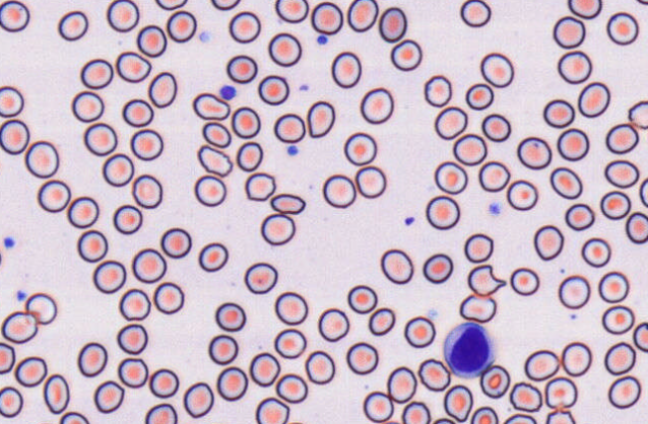LYM: (442, 320, 497, 378)
PLT: (487, 201, 503, 218), (220, 84, 238, 99), (1, 236, 19, 250), (12, 288, 28, 303), (314, 35, 329, 47), (286, 144, 300, 156)
RBC: (24, 140, 59, 178), (131, 248, 166, 283), (1, 310, 38, 343), (360, 87, 393, 124), (322, 173, 356, 208), (480, 52, 514, 87), (380, 248, 413, 284), (577, 81, 610, 117), (92, 259, 126, 293), (607, 375, 641, 409), (425, 195, 459, 229), (274, 291, 308, 325), (557, 50, 592, 83), (386, 366, 417, 403), (183, 381, 214, 418), (83, 122, 117, 155), (434, 105, 467, 139), (268, 32, 301, 66), (517, 136, 551, 169), (343, 132, 377, 165), (606, 11, 639, 45), (216, 366, 248, 401), (524, 349, 559, 381), (452, 133, 487, 165), (197, 144, 232, 176), (558, 274, 590, 309), (260, 213, 295, 245), (115, 51, 151, 82), (443, 384, 473, 421), (331, 51, 361, 88), (37, 179, 70, 212), (544, 376, 577, 409), (417, 358, 450, 391), (310, 1, 343, 34), (434, 161, 467, 194), (552, 15, 585, 48), (556, 128, 589, 161), (549, 166, 582, 199), (102, 152, 134, 186), (317, 307, 349, 341), (604, 341, 636, 375), (561, 341, 592, 376), (77, 341, 107, 377), (533, 224, 563, 260), (148, 71, 177, 108), (43, 373, 69, 414), (244, 262, 277, 294), (106, 0, 139, 32), (354, 165, 386, 198), (346, 341, 378, 374), (390, 38, 422, 71), (130, 128, 163, 160), (71, 90, 104, 122), (304, 350, 335, 384), (479, 364, 510, 398), (249, 352, 280, 386), (131, 174, 162, 208), (605, 123, 639, 154), (0, 118, 29, 154), (378, 6, 407, 42), (67, 196, 99, 228), (478, 160, 510, 192), (346, 0, 378, 32), (228, 11, 260, 43), (194, 174, 226, 206), (136, 24, 167, 57), (14, 356, 47, 387), (93, 380, 124, 413), (77, 229, 108, 262), (509, 381, 542, 412), (153, 281, 184, 314), (404, 315, 435, 348), (80, 58, 113, 89), (604, 159, 639, 188), (362, 390, 393, 422), (119, 288, 150, 320), (506, 179, 538, 210), (257, 74, 289, 105), (598, 271, 629, 303), (601, 304, 634, 334), (117, 357, 148, 388), (116, 323, 147, 354), (57, 10, 88, 41), (160, 227, 191, 258), (275, 373, 307, 403), (166, 10, 196, 42), (274, 328, 306, 358), (273, 113, 305, 143), (255, 396, 289, 424), (422, 253, 453, 283), (148, 368, 179, 398), (0, 0, 29, 32), (231, 106, 260, 138), (214, 302, 246, 331), (423, 74, 451, 107), (463, 233, 493, 263), (112, 204, 142, 234), (208, 334, 238, 364), (581, 237, 611, 267), (198, 242, 228, 272), (122, 98, 153, 127), (600, 190, 631, 219), (543, 98, 574, 127), (244, 172, 275, 201), (226, 54, 257, 83), (347, 284, 377, 313), (460, 0, 491, 27), (510, 267, 539, 295), (481, 113, 510, 141), (564, 203, 594, 230), (236, 141, 263, 171), (465, 82, 493, 110), (202, 121, 231, 148), (270, 192, 305, 214), (0, 85, 24, 117), (0, 385, 23, 418), (275, 0, 308, 23), (368, 307, 395, 335), (625, 211, 648, 243), (144, 403, 177, 424), (567, 0, 602, 19), (401, 401, 430, 423), (628, 100, 648, 129), (545, 408, 576, 424), (0, 342, 15, 374), (470, 406, 498, 423), (633, 321, 648, 352), (59, 411, 89, 424), (502, 413, 536, 423), (154, 0, 187, 10), (210, 0, 240, 10), (639, 176, 648, 207), (430, 417, 456, 424), (377, 419, 401, 424), (0, 247, 3, 274), (284, 421, 308, 424), (635, 0, 648, 5)
Schistocyte: (467, 263, 510, 295), (458, 294, 497, 323), (25, 292, 59, 325), (192, 93, 232, 120), (308, 100, 336, 138)
